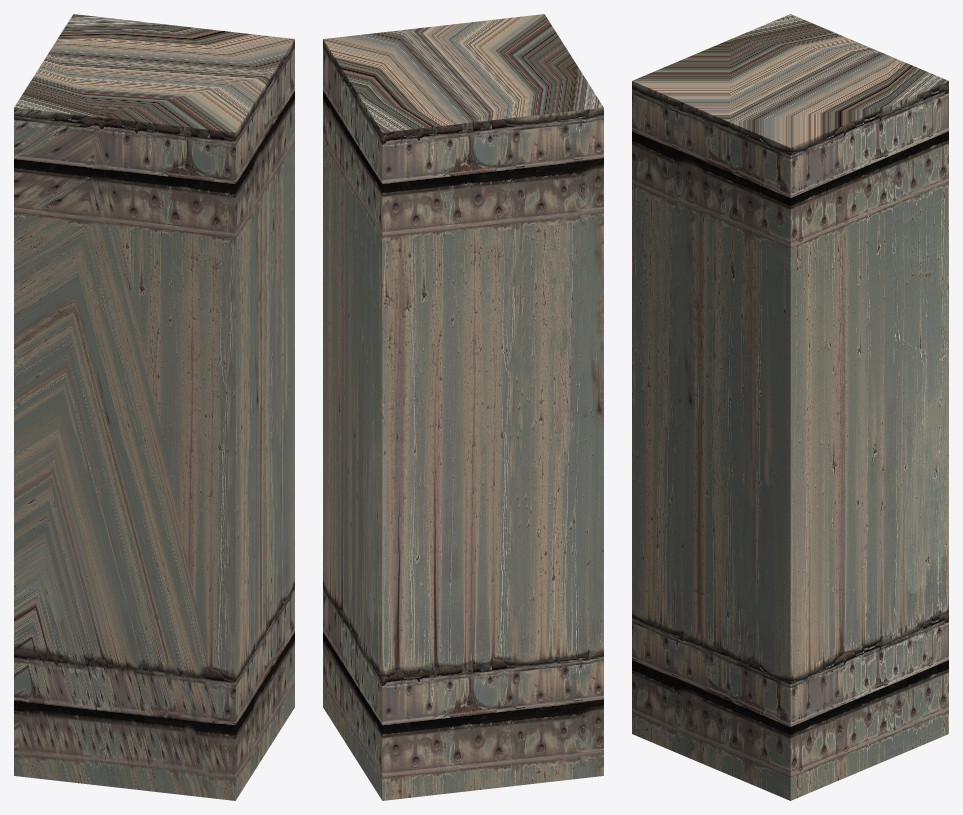
File: pipe_short_lod.fbx
3 renders of one model, left to right at view 1: azimuth 30°, elevation 25°; view 2: azimuth 150°, elevation 25°; view 3: azimuth 270°, elevation 25°, orthographic. The views are drawn at different scales.
Parts seen in each view (by area): view 1: Mesh Object; view 2: Mesh Object; view 3: Mesh Object.
Boxes of the visible parts, left/top/right/bottom form: Mesh Object: left=14, top=14, right=294, bottom=800; Mesh Object: left=323, top=14, right=603, bottom=800; Mesh Object: left=632, top=14, right=948, bottom=800.
Bounding box in the file's own units: 0.704 × 1.6 × 0.704.
